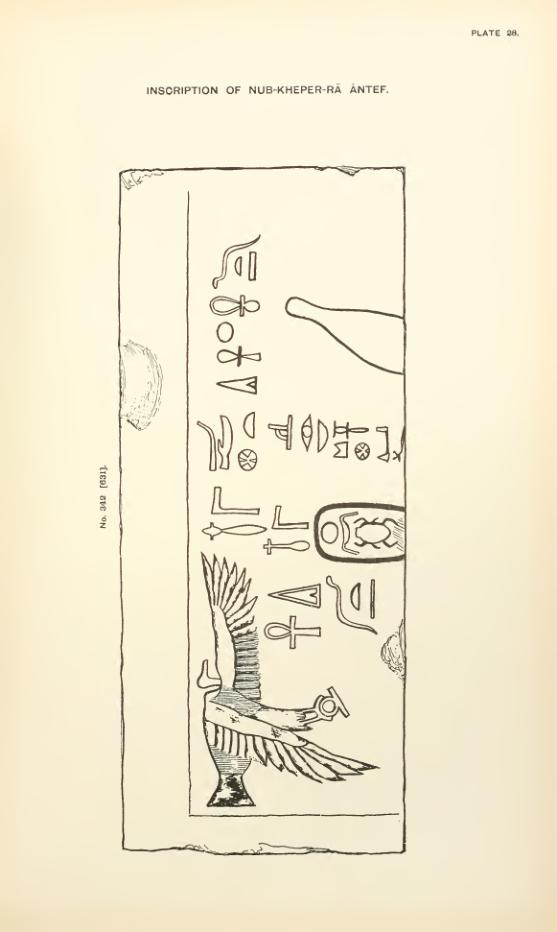circle: (310, 500, 417, 565)
